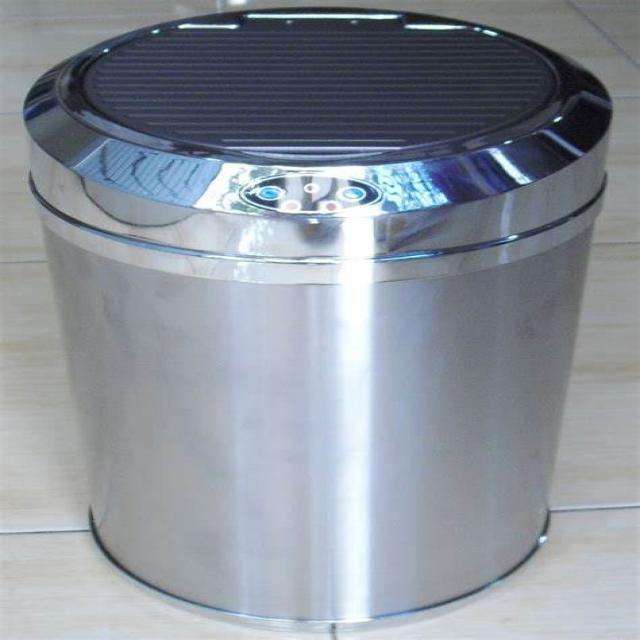garbage container: (10, 7, 630, 633)
